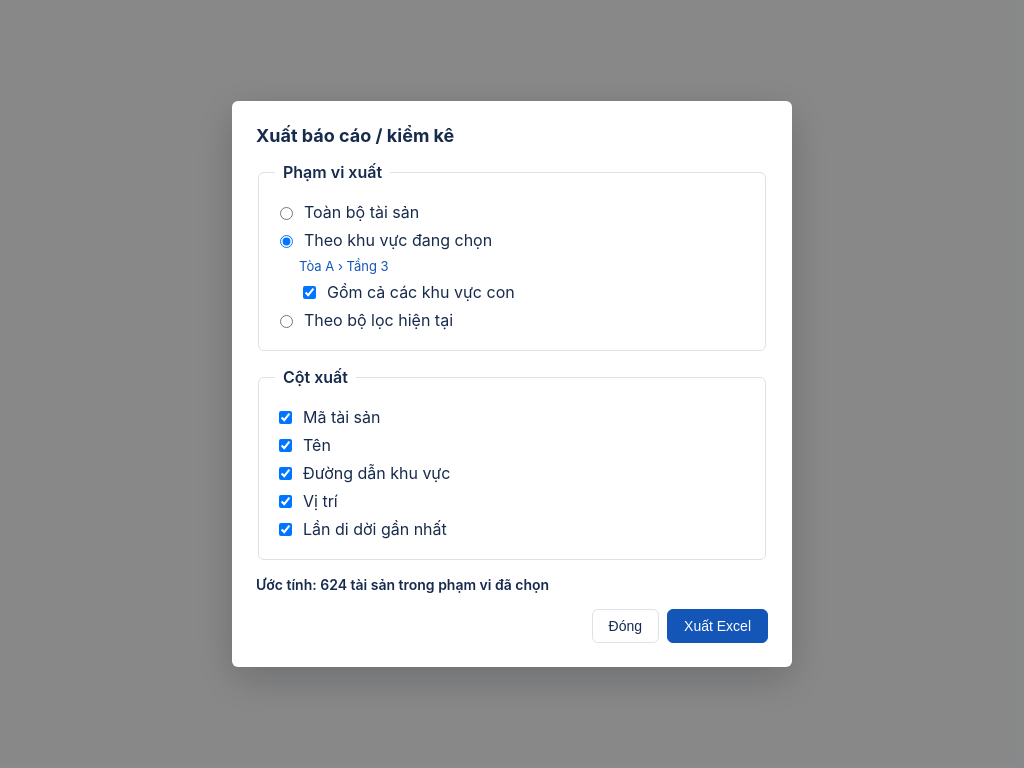
Scenario: XuatBaoCaoModal — S08 › TC-S08-21: phạm vi 1 tài sản (Tầng 3, tắt khu con) → ước tính 1, cho xuất
Click the checkbox labelled "Gồm cả các khu vực con" at x=310, y=292, box [303,286,316,298]
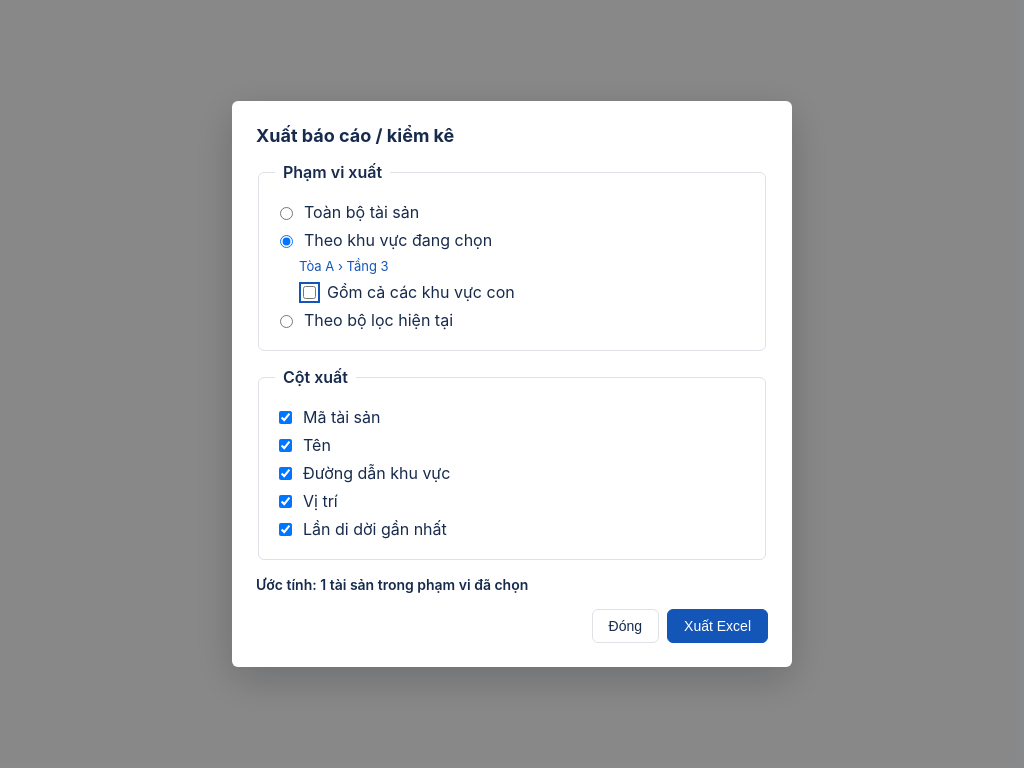
Expected: the button "Xuất Excel" is enabled, [667,609,768,643]
Now the text "Ước tính: 1 tài sản trong phạm vi đã chọn" is shown, box [256,576,528,593]
